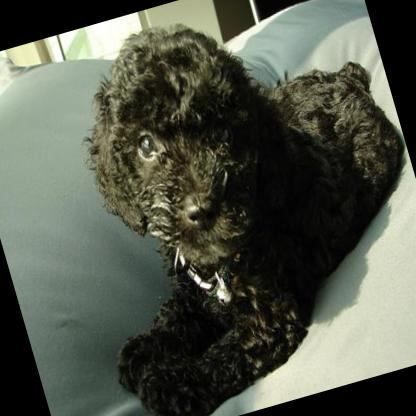toy_poodle: (25, 0, 416, 416)
